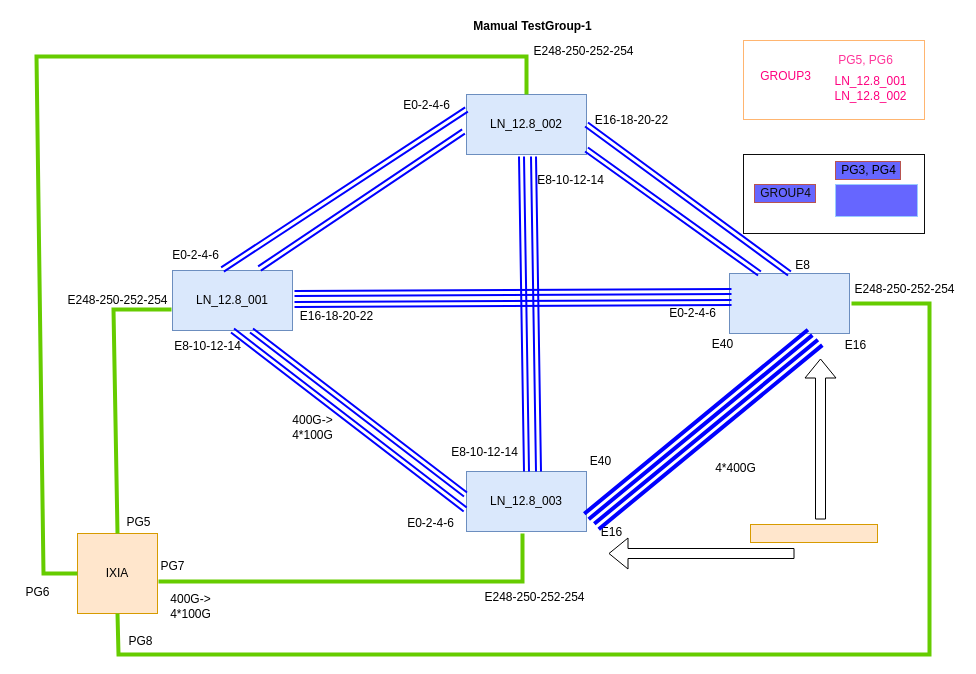
Image size: 976x674. Some labels were removed from this diagram. Each missing label, with the centre of its shape:
"LN_12.8_003 LN_12.8_004" goes at (876,200).
"LN_12.8_004" goes at (789,303).
"此两处8T替换成12.8T" goes at (814,533).
